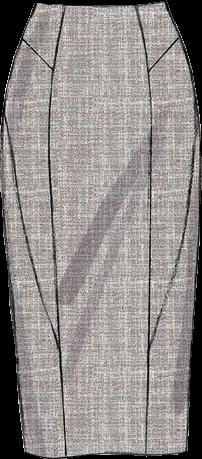Hemline: (22, 446, 186, 458)
Waistline: (35, 0, 168, 11)
